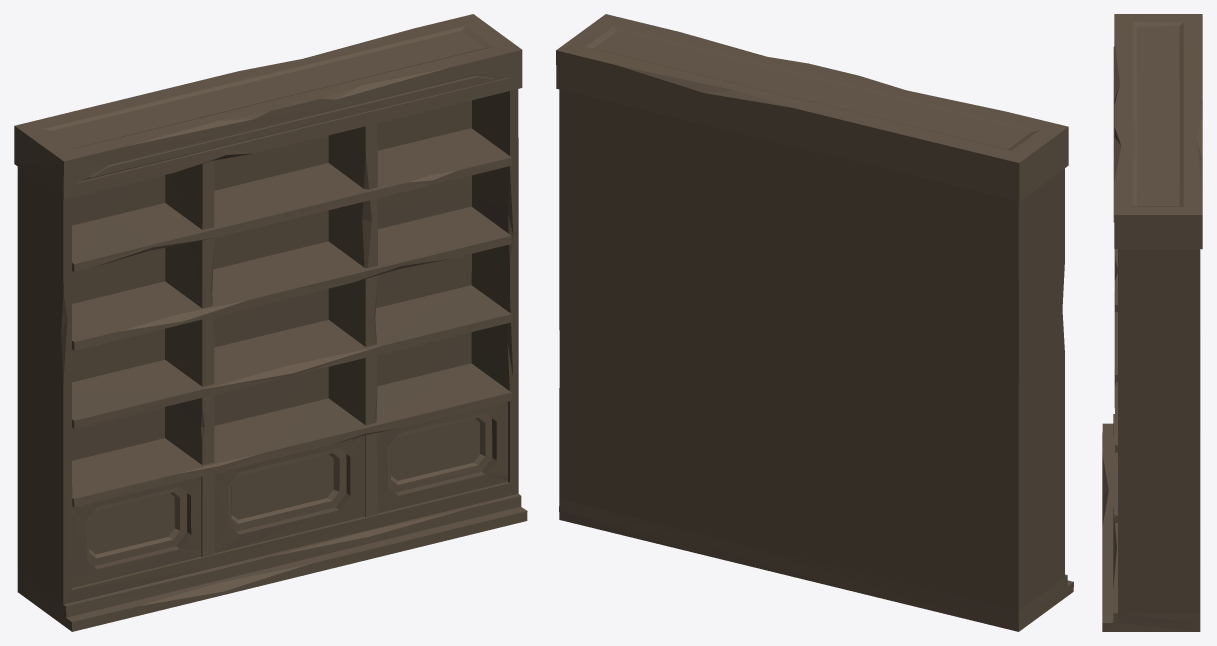
File: SFHW_Shelving_005.fbx
3 views of the same model, side by side, from view 1: azimuth 30°, elevation 25°; view 2: azimuth 150°, elevation 25°; view 3: azimuth 270°, elevation 25° (orthographic). The views are drawn at different scales.
Parts seen in each view (by area): view 1: SFHW_Shelving_005; view 2: SFHW_Shelving_005; view 3: SFHW_Shelving_005.
Boxes of the visible parts, x1,y1,x2,y2 form: SFHW_Shelving_005: (14, 14, 527, 631); SFHW_Shelving_005: (556, 14, 1073, 631); SFHW_Shelving_005: (1102, 14, 1202, 631).
Size of the model in its own units: 296 by 287 by 62.61.
